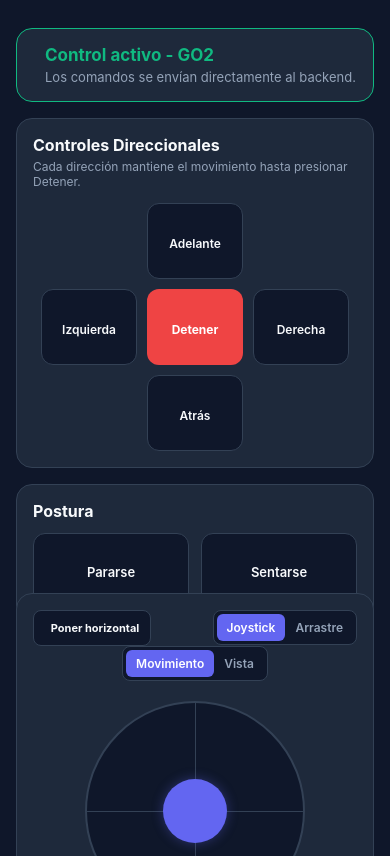
Test case: ControlScreen (Control de Movimiento) › debe permitir elegir modo arrastre
Click the text "Arrastre".
click(319, 628)  # box x1=295 y1=620 x2=343 y2=635
(page scrolled)
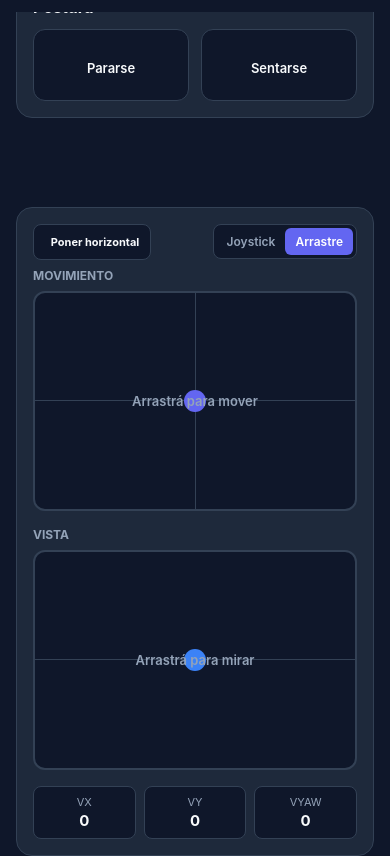
expect the text "Arrastrá para mover" is shown: met, box x1=132 y1=392 x2=258 y2=408
expect the text "Arrastrá para mirar" is shown: met, box x1=136 y1=652 x2=254 y2=668
expect the element with test id "move-drag-area" is shown: met, box x1=33 y1=290 x2=357 y2=510
